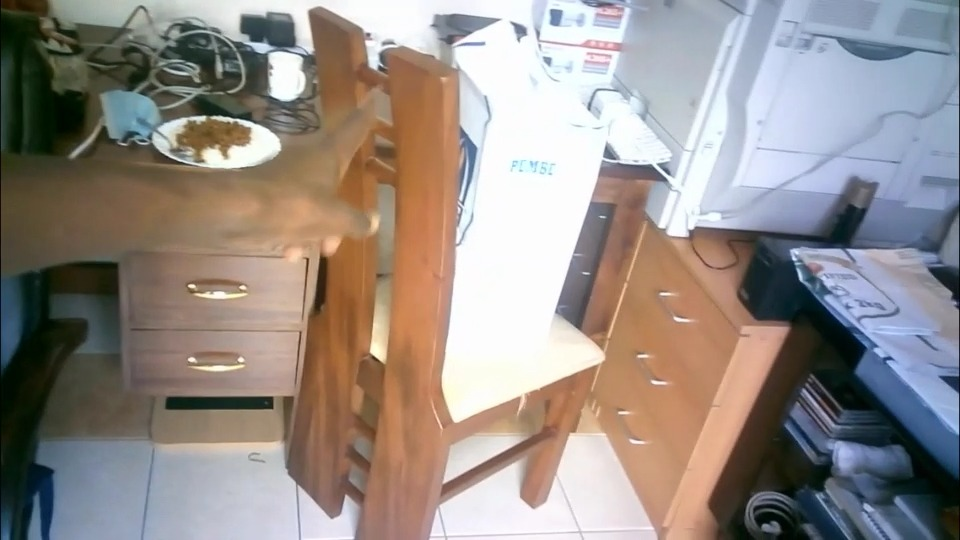wheat_flour_blue_label: (457, 48, 613, 347)
